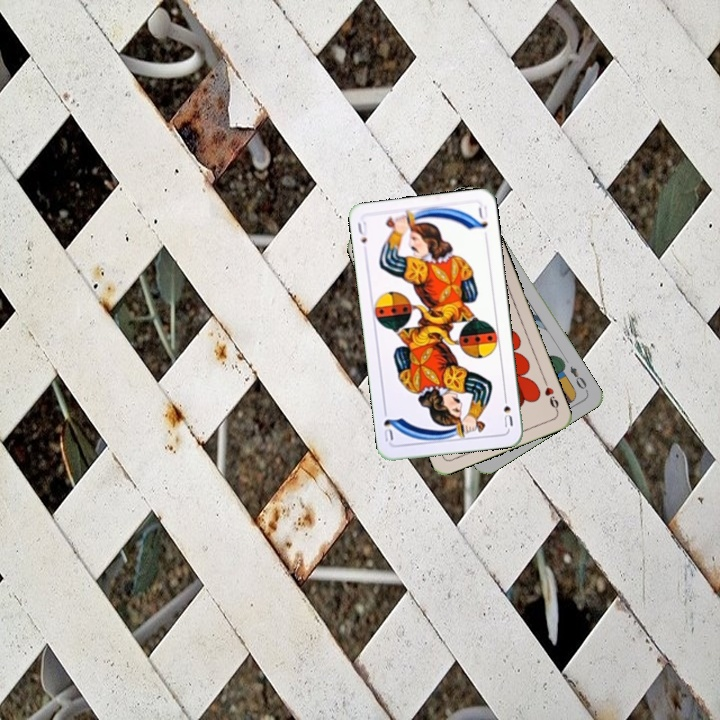EO: (566, 362, 591, 395)
H9: (539, 375, 561, 414)
SU: (499, 390, 515, 430), (353, 217, 370, 246)
